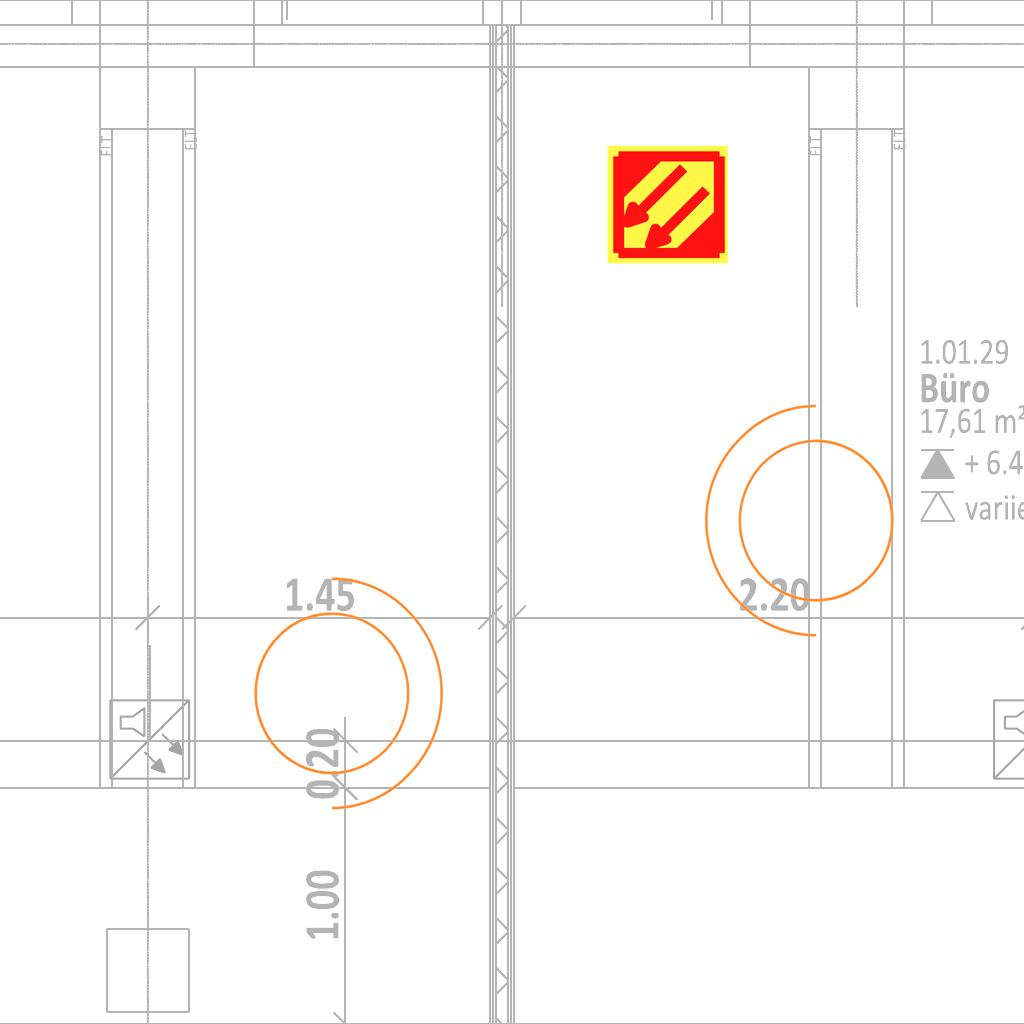ASR_Ansaugrauchmelder: (605, 142, 730, 267)
Scheinwerfer_fuer_Alarmbeleuchtung: (229, 555, 454, 819), (694, 395, 919, 659)
